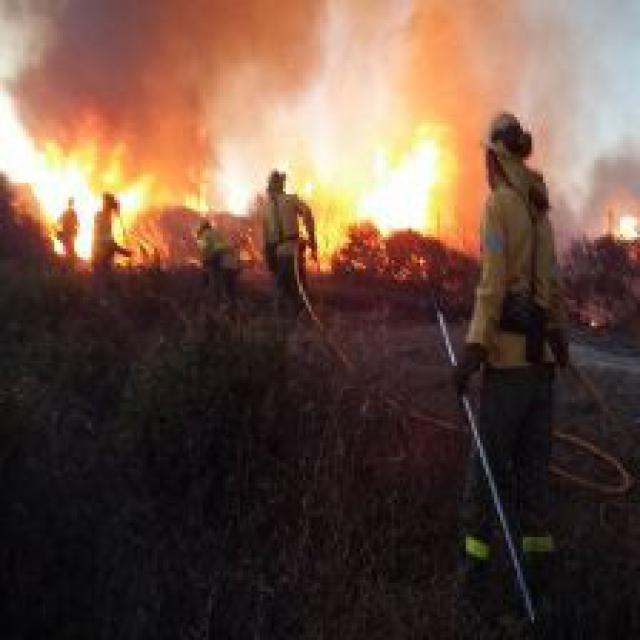fire: (8, 74, 123, 254), (334, 114, 466, 269)
